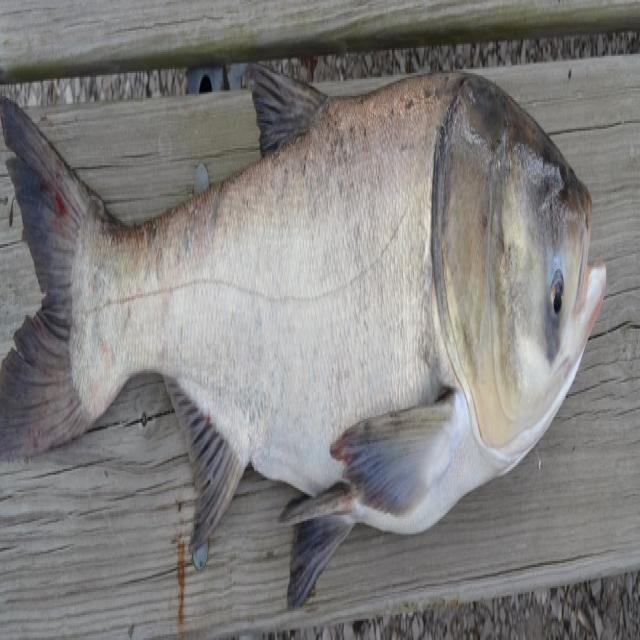Big-Head-Carp: (3, 6, 627, 618)
